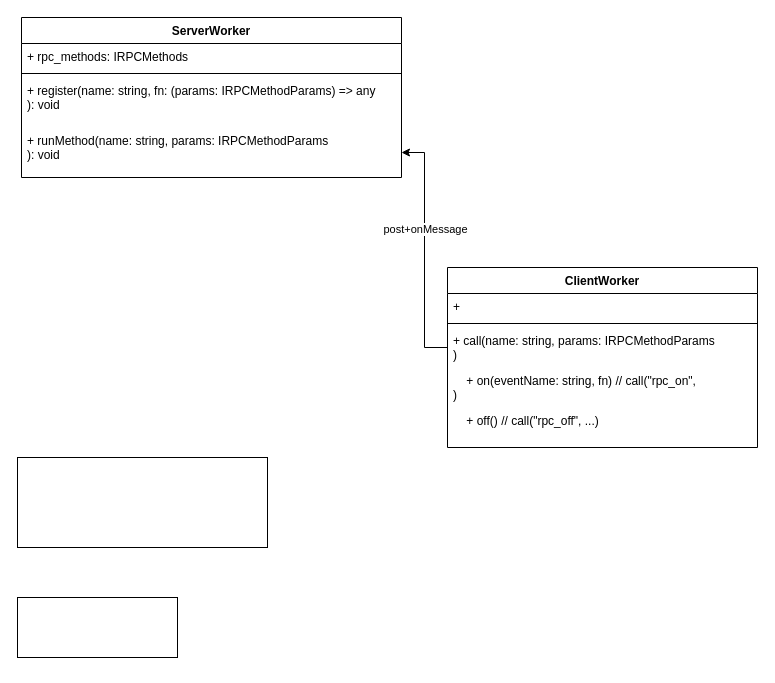
This 775x683 diagram has some shape labels left out. Each missing label, with the centre of its shape:
"IRPCMethodParams [x: string]: any" goes at (x=97, y=627).
"IRPCMethods [x: string]: { fn:(params: IRPCMethodParams ) => any }" goes at (x=142, y=502).
